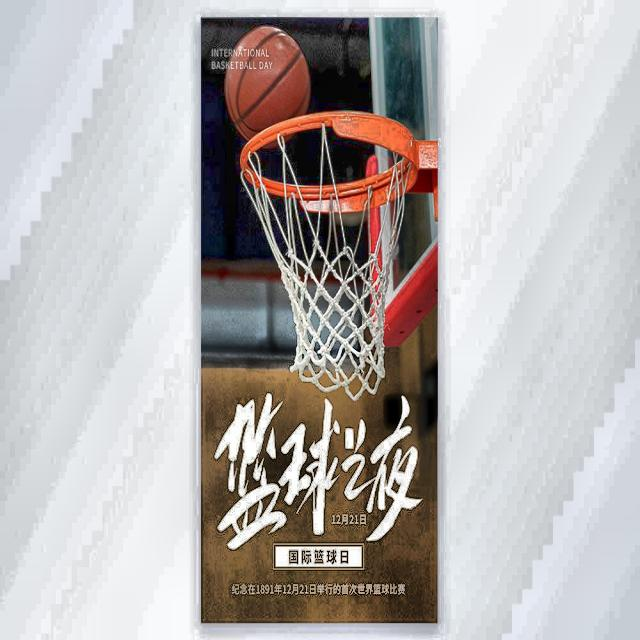board: (226, 25, 308, 146)
rim: (243, 110, 416, 400)
